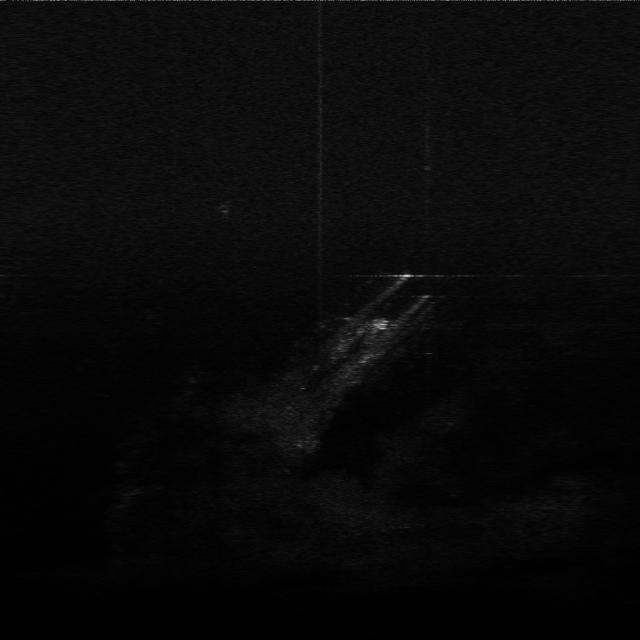rov: (367, 315, 397, 333)
